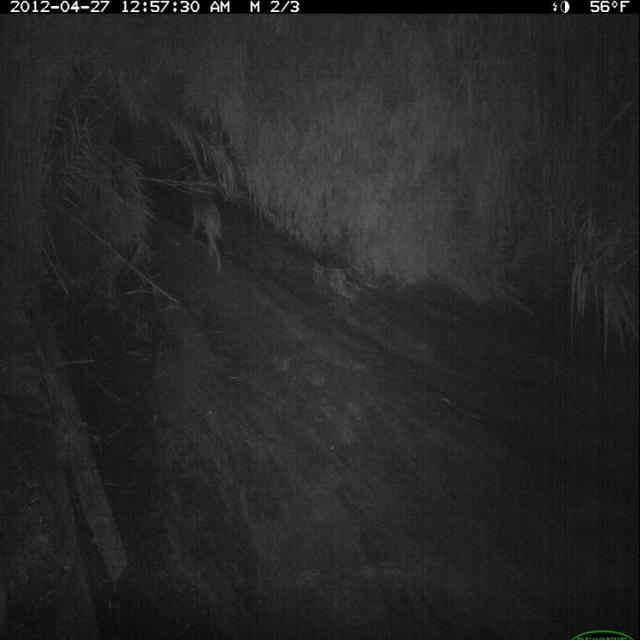coyote: (185, 172, 227, 279)
